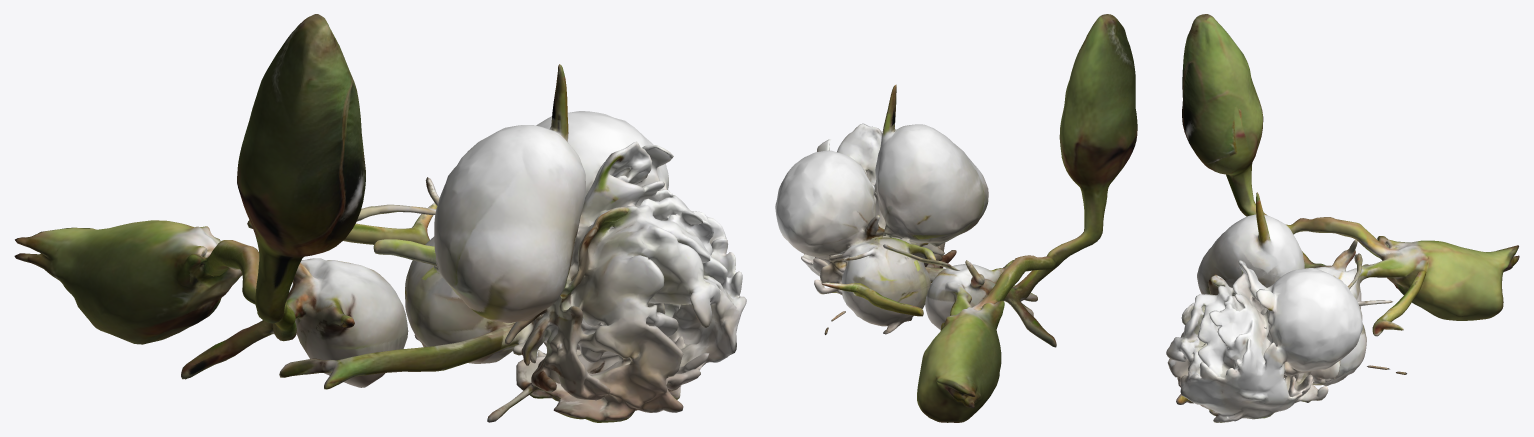
Rendered from herb0064_dup.gltf.
3 views of the same model, side by side, from view 1: azimuth 30°, elevation 25°; view 2: azimuth 150°, elevation 25°; view 3: azimuth 270°, elevation 25° (orthographic). The views are drawn at different scales.
Visible parts, largest first — view 1: Mesh_0; view 2: Mesh_0; view 3: Mesh_0.
Boxes of the visible parts, <box> form: Mesh_0: <box>14,14,746,422</box>; Mesh_0: <box>775,14,1137,422</box>; Mesh_0: <box>1166,14,1519,422</box>.
Size of the model in its own units: 1.99 by 1.84 by 1.98.
1 material, 1 textured.
